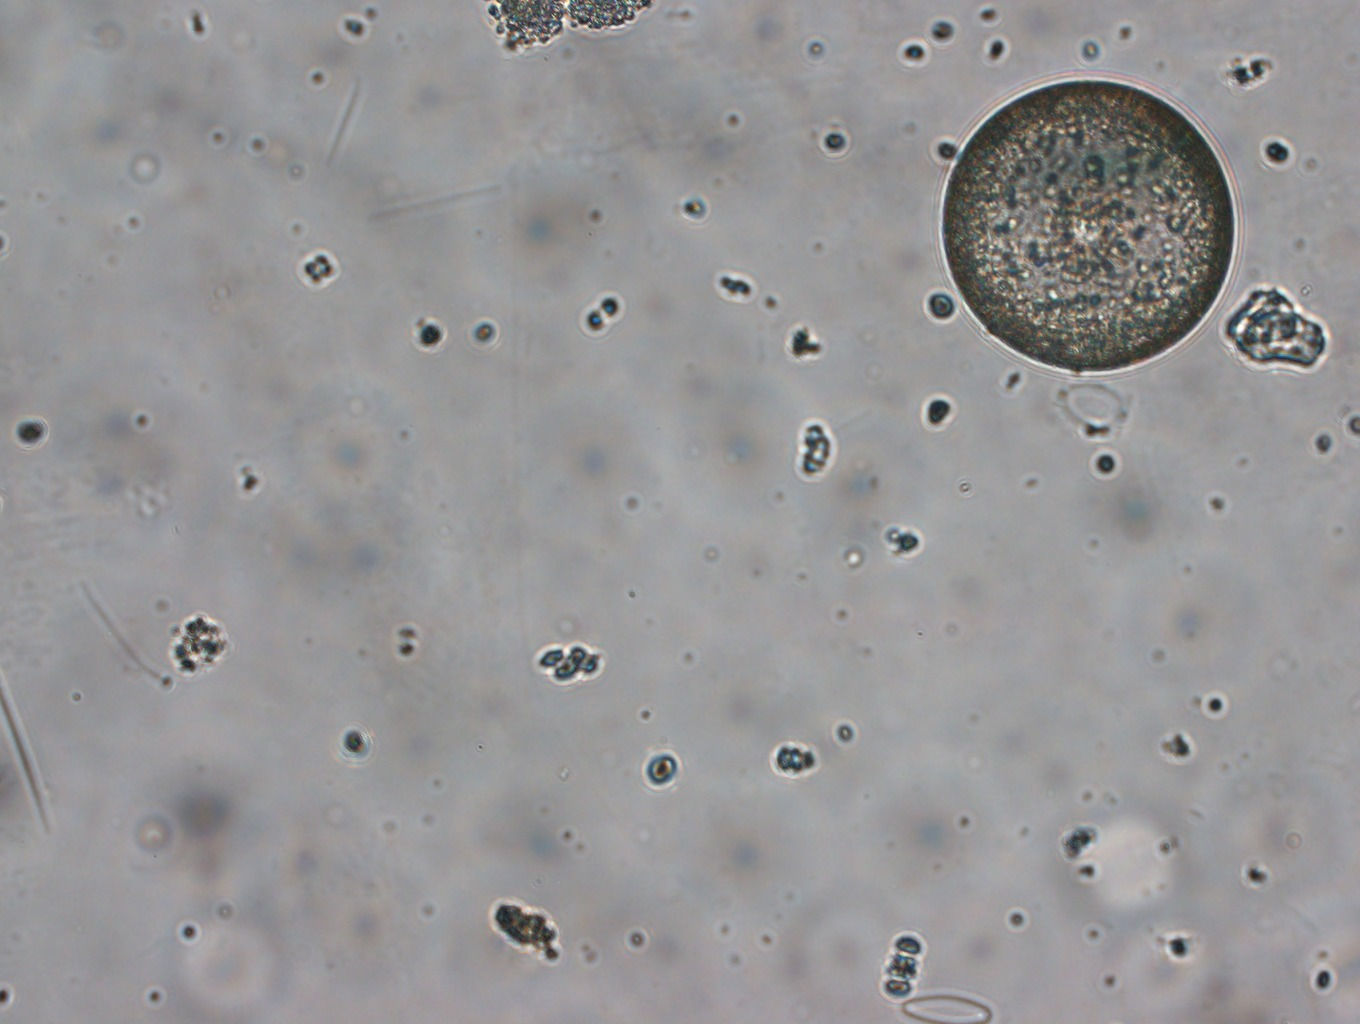coscinodiscus: (924, 73, 1242, 382)
